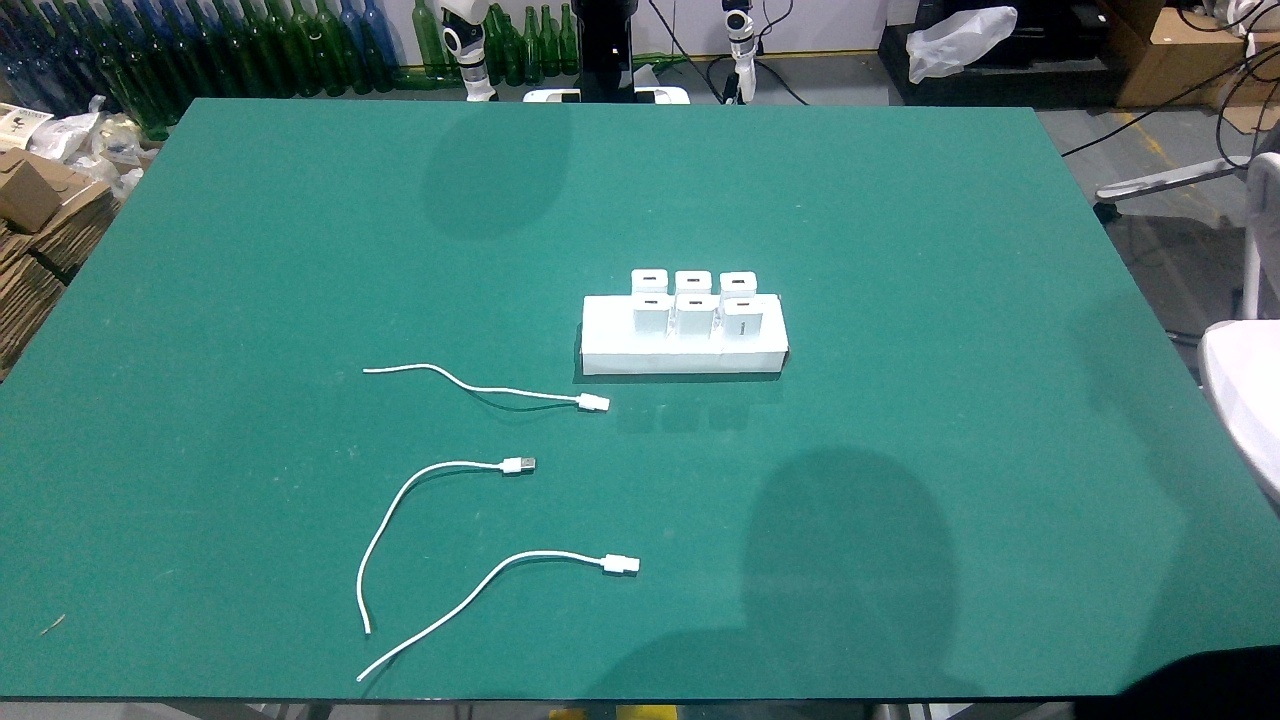usb_a_plug: (575, 551, 653, 576), (476, 454, 549, 477), (563, 390, 613, 413)
